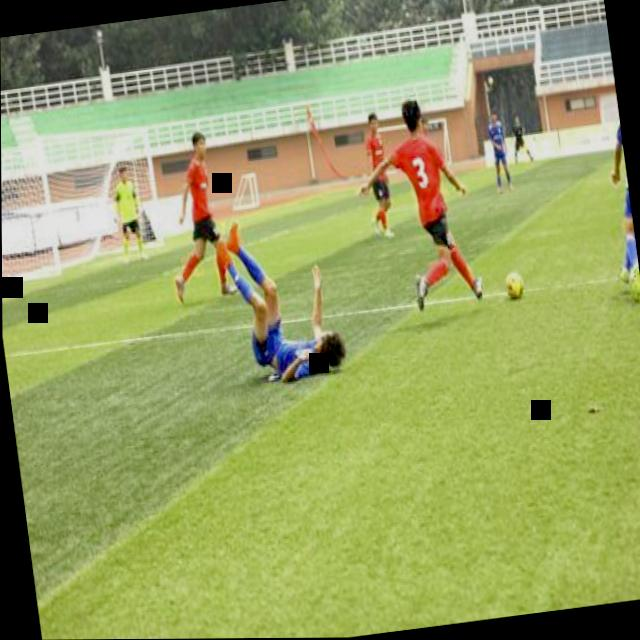Fall-Detected: (209, 186, 346, 397)
